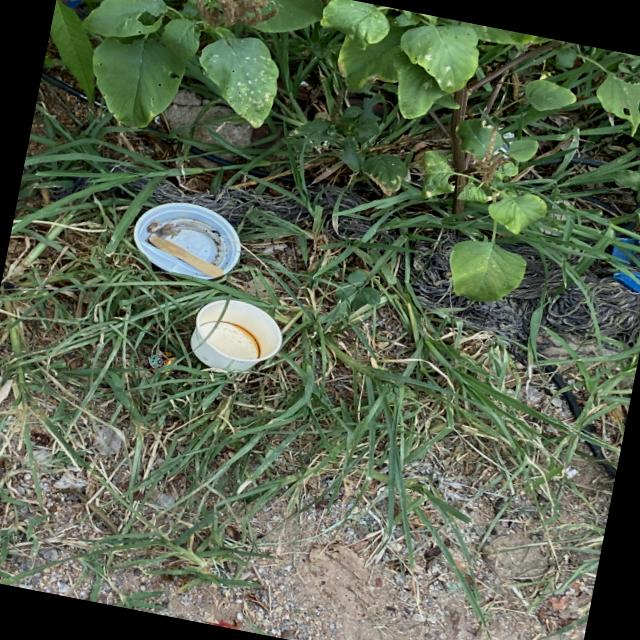hop_nhua: (132, 202, 241, 280)
ly_hop_giay: (190, 300, 281, 372)
